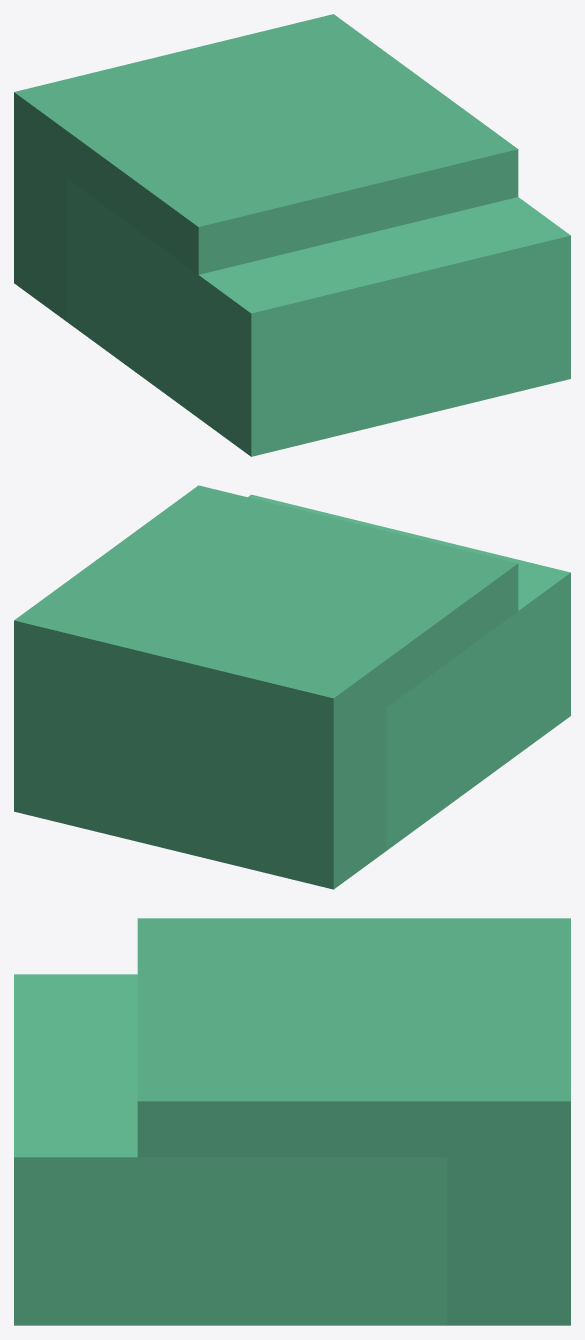
The model's file is esmeralda_02.glb.
The picture shows the model from 3 angles, top to bottom: view 1: azimuth 30°, elevation 25°; view 2: azimuth 150°, elevation 25°; view 3: azimuth 270°, elevation 25°; orthographic projection. The views are drawn at different scales.
Parts seen in each view (by area): view 1: esmeralda_02; view 2: esmeralda_02; view 3: esmeralda_02.
Boxes of the visible parts, <box> form: esmeralda_02: <box>14,14,570,456</box>; esmeralda_02: <box>14,485,570,889</box>; esmeralda_02: <box>14,918,570,1325</box>.
Bounding box in the file's own units: 0.7 × 0.4 × 0.9.
